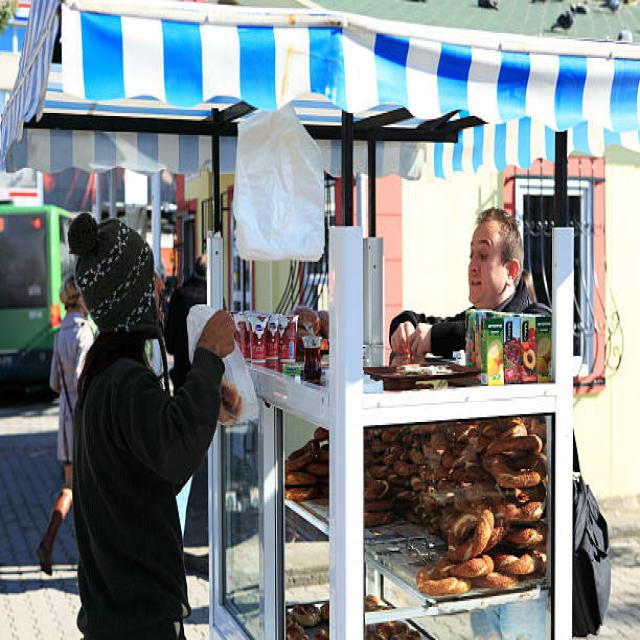Emperan: (162, 0, 611, 640)
